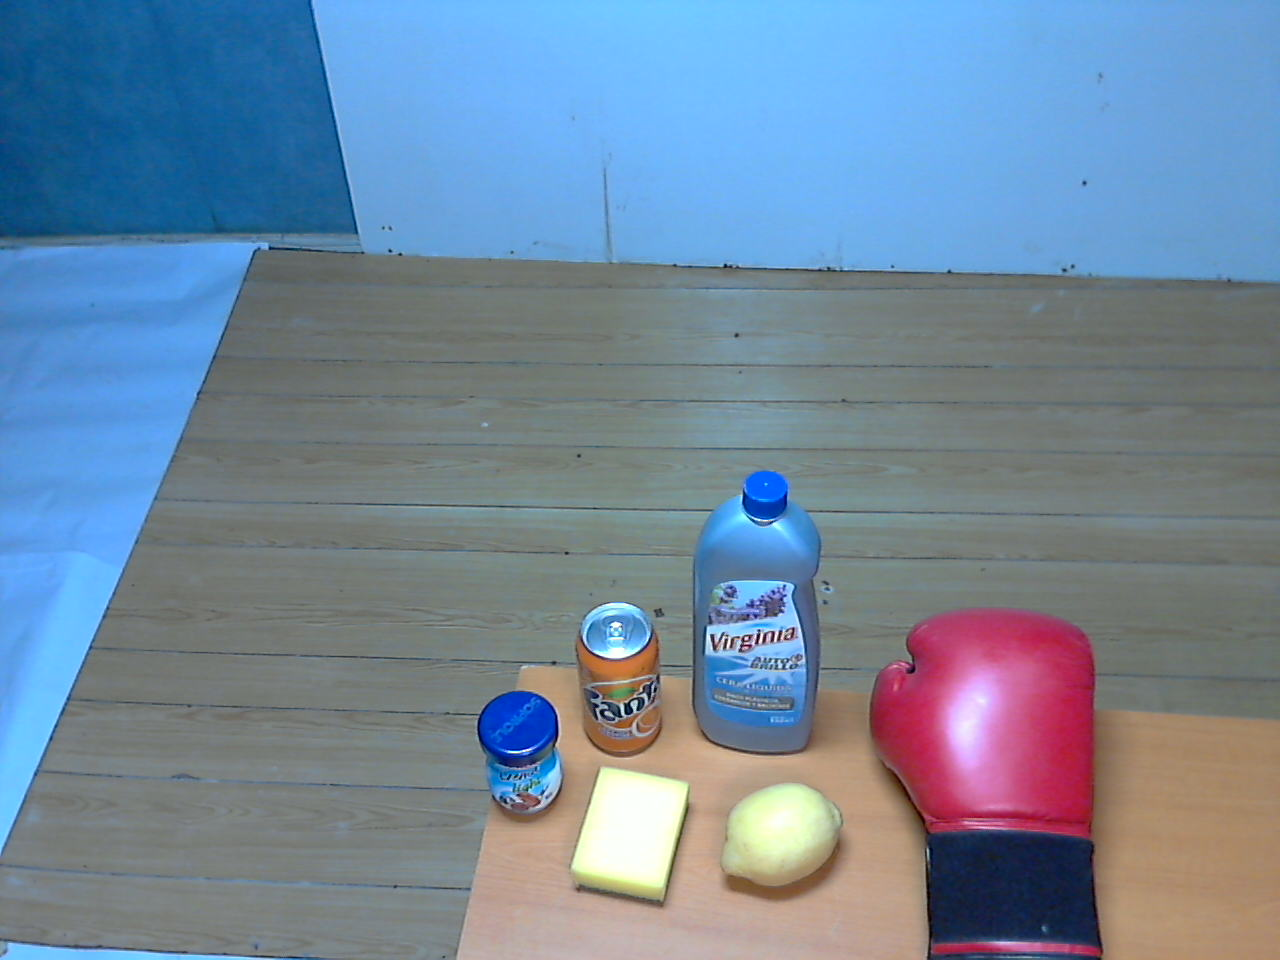cera: (682, 466, 835, 763)
crema: (469, 682, 571, 826)
esponja: (560, 753, 699, 911)
guante: (859, 600, 1119, 960)
lata: (569, 598, 673, 761)
limon: (713, 763, 854, 909)
